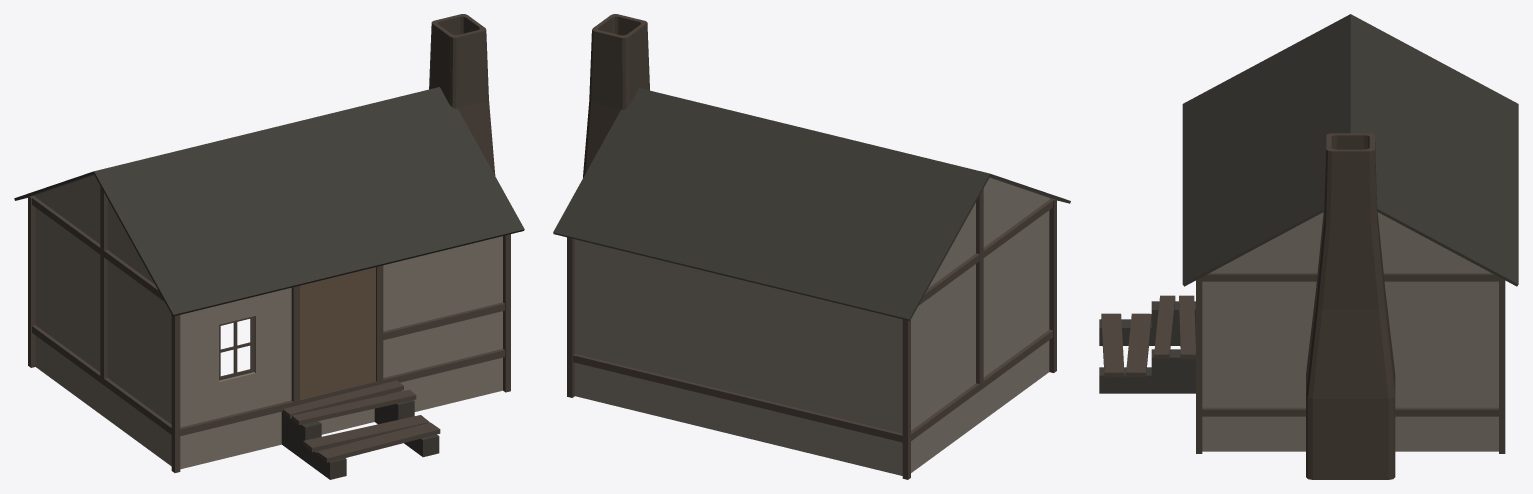
Rendered from camp-cabin.lod2.glb.
3 renders of one model, left to right at view 1: azimuth 30°, elevation 25°; view 2: azimuth 150°, elevation 25°; view 3: azimuth 270°, elevation 25°, orthographic. The views are drawn at different scales.
Visible parts, largest first — view 1: Object_2; view 2: Object_2; view 3: Object_2.
Boxes of the visible parts, bbox=[...] form: Object_2: bbox=[14, 14, 524, 479]; Object_2: bbox=[553, 14, 1070, 479]; Object_2: bbox=[1099, 14, 1518, 479].
Bounding box in the file's own units: 10.5 × 7.8 × 9.18.
